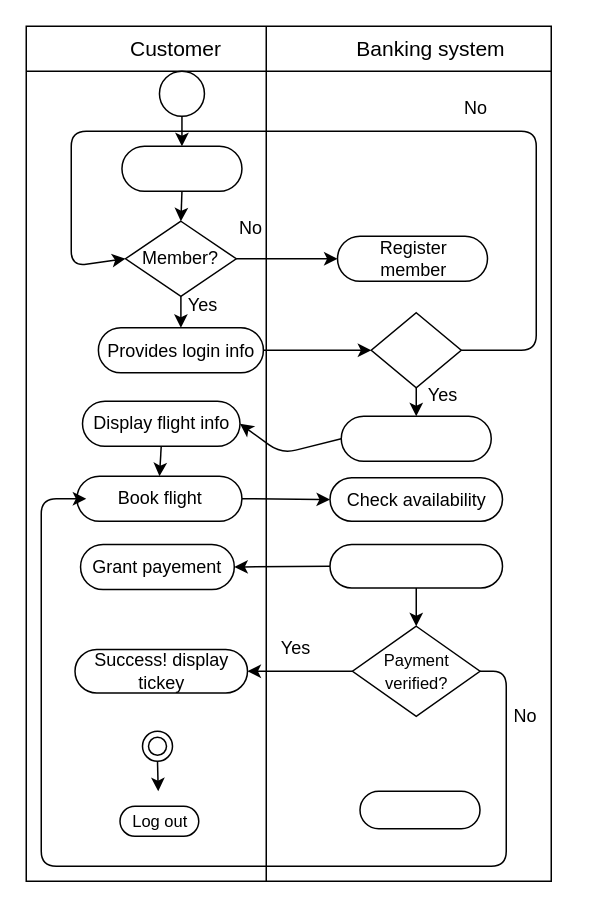
Image size: 596x908. Some labels were removed from this diagram. The centre of each missing label's shape, as x and y in pixels:
Req payment: point 415,565
Session end: point 419,809
Session start: point 415,438
start: point 181,168
verify login: point 415,349
